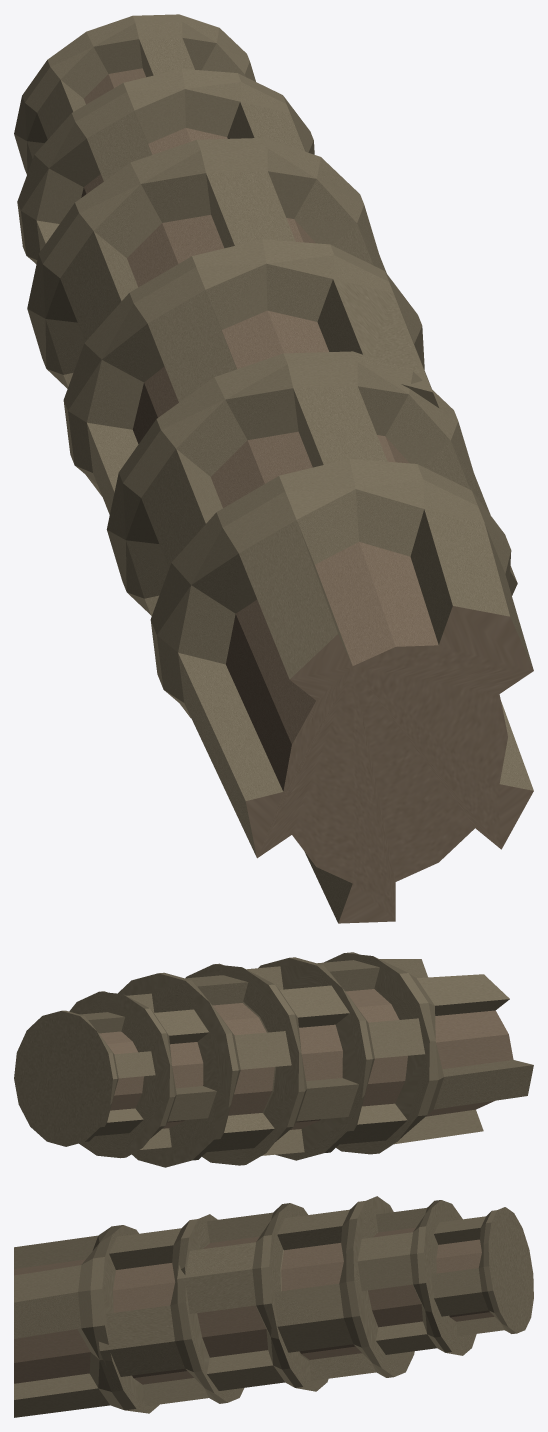
The model's file is desert_symbol_pisa.FBX.
The picture shows the model from 3 angles, top to bottom: view 1: azimuth 30°, elevation 25°; view 2: azimuth 150°, elevation 25°; view 3: azimuth 270°, elevation 25°; orthographic projection. The views are drawn at different scales.
Parts seen in each view (by area): view 1: pisa_winter.001; view 2: pisa_winter.001; view 3: pisa_winter.001.
Part boxes in pixels (x1=…): pisa_winter.001: x1=14, y1=14, x2=533, y2=923; pisa_winter.001: x1=14, y1=952, x2=533, y2=1167; pisa_winter.001: x1=14, y1=1196, x2=533, y2=1417.
Size of the model in its own units: 152 by 152 by 278.
